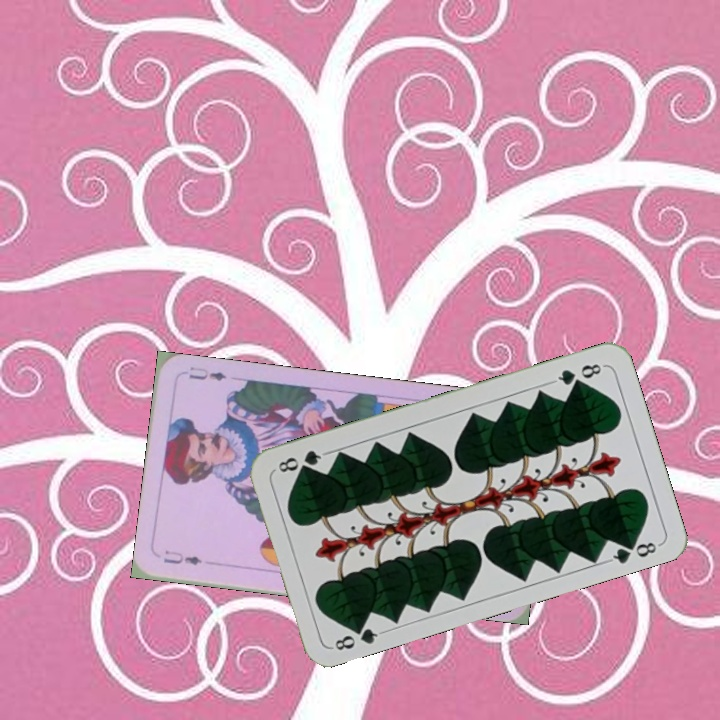EU: (159, 546, 204, 568)
G8: (329, 619, 386, 654), (549, 359, 607, 388)
